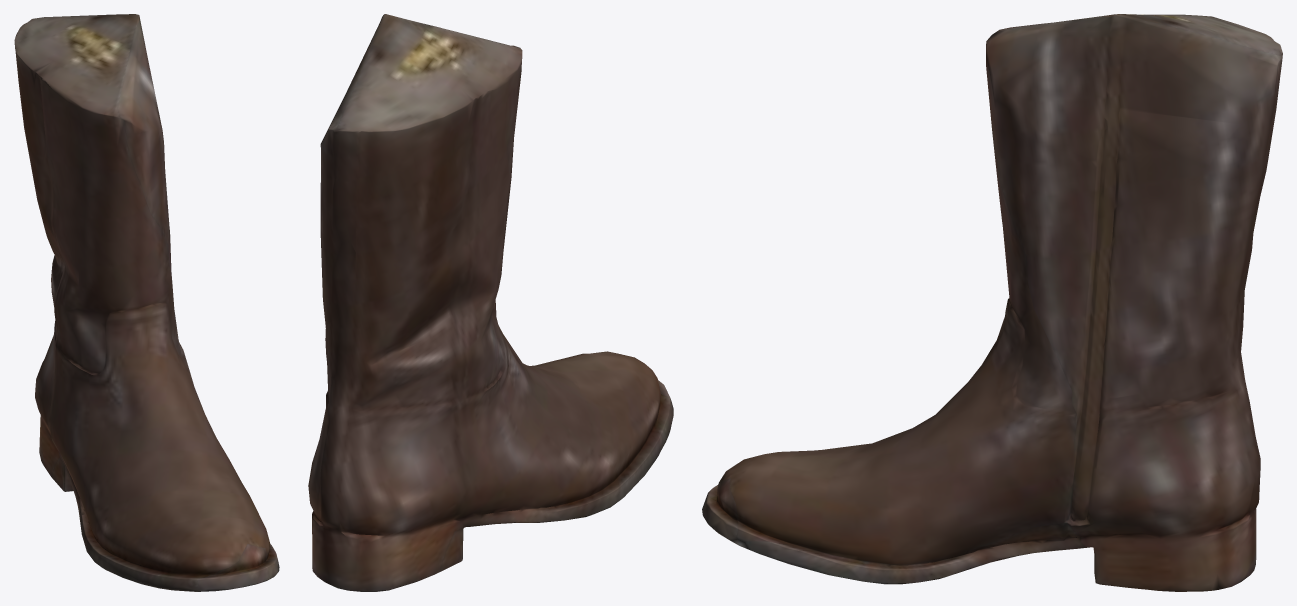
Rendered from gso_tory_burch_kiernan_riding_boot.glb.
The picture shows the model from 3 angles, left to right: view 1: azimuth 30°, elevation 25°; view 2: azimuth 150°, elevation 25°; view 3: azimuth 270°, elevation 25°; orthographic projection. The views are drawn at different scales.
Visible parts, largest first — view 1: z-up-to-y-up; view 2: z-up-to-y-up; view 3: z-up-to-y-up.
Part boxes in pixels (x1,y1,x2,y2): z-up-to-y-up: (14,14,279,591); z-up-to-y-up: (308,14,673,591); z-up-to-y-up: (702,14,1282,591).
Bounding box in the file's own units: 0.102 × 0.296 × 0.2752.
1 material, 1 textured.
